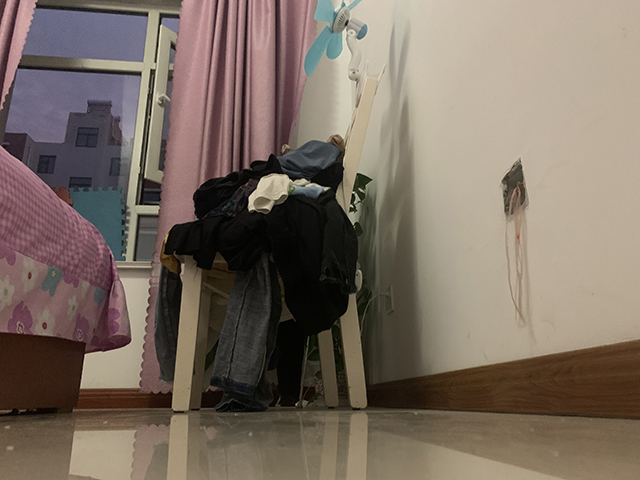bed: (1, 144, 133, 414)
curtain: (136, 1, 324, 397)
stool: (152, 74, 374, 415)
